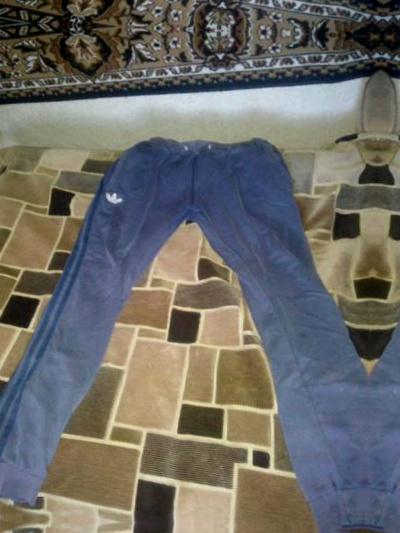Pants: (0, 95, 361, 514), (382, 111, 400, 531)
